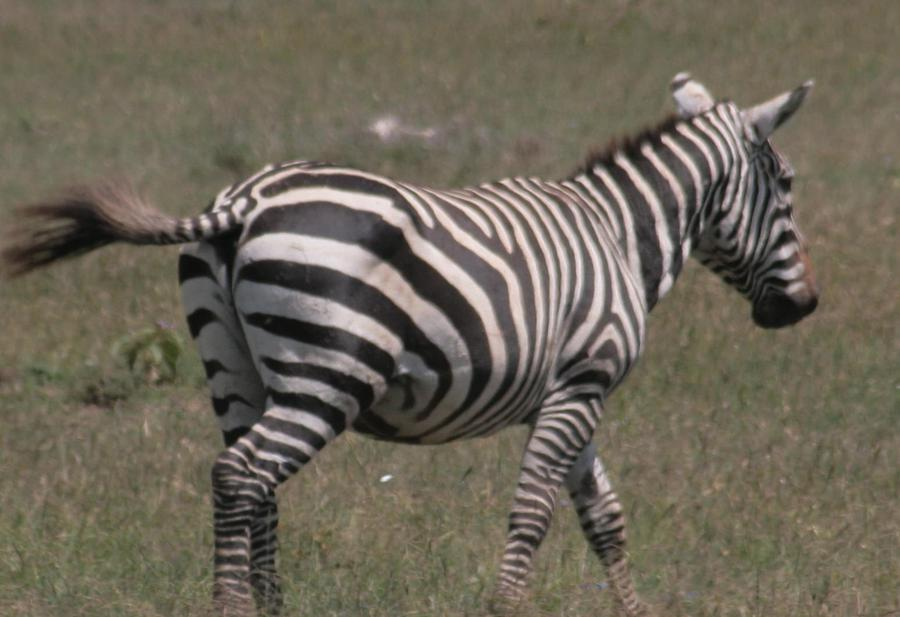zebra_plains: (233, 132, 664, 480)
